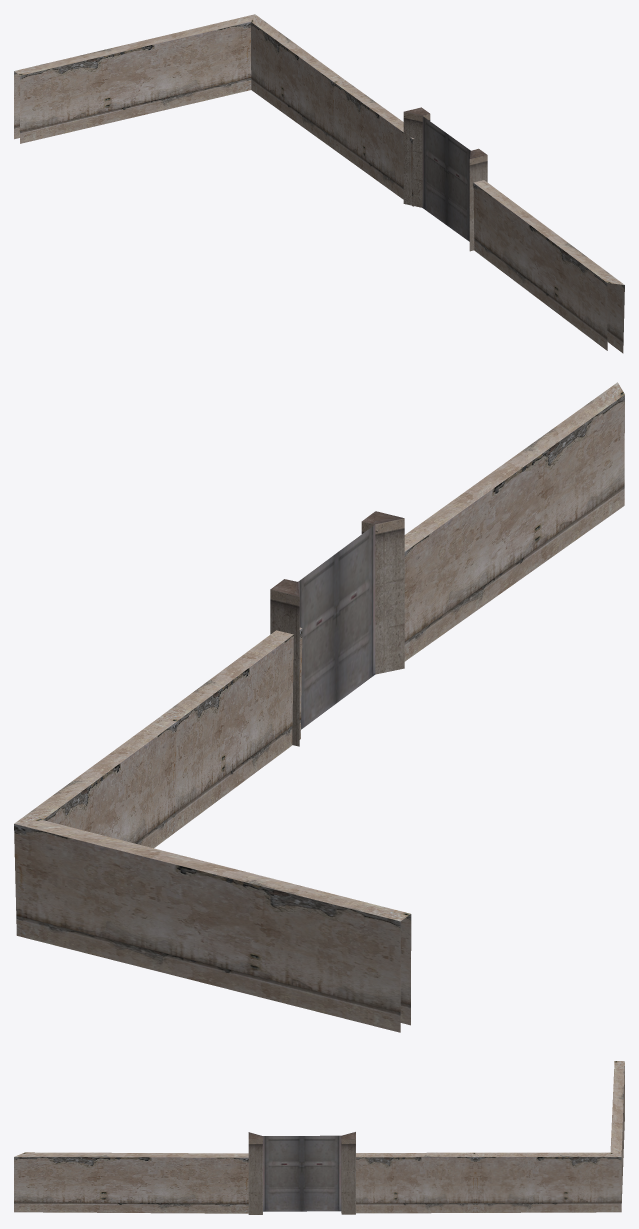
The model's file is building13.fbx.
3 renders of one model, top to bottom at view 1: azimuth 30°, elevation 25°; view 2: azimuth 150°, elevation 25°; view 3: azimuth 270°, elevation 25°, orthographic. The views are drawn at different scales.
Visible parts, largest first — view 1: polySurface411; view 2: polySurface411; view 3: polySurface411.
Boxes of the visible parts, <box> form: polySurface411: <box>14,14,624,353</box>; polySurface411: <box>14,382,624,1032</box>; polySurface411: <box>14,1061,624,1214</box>.
Bounding box in the file's own units: 799 × 289 × 2106.
Materials: 1 (1 with a texture image).
